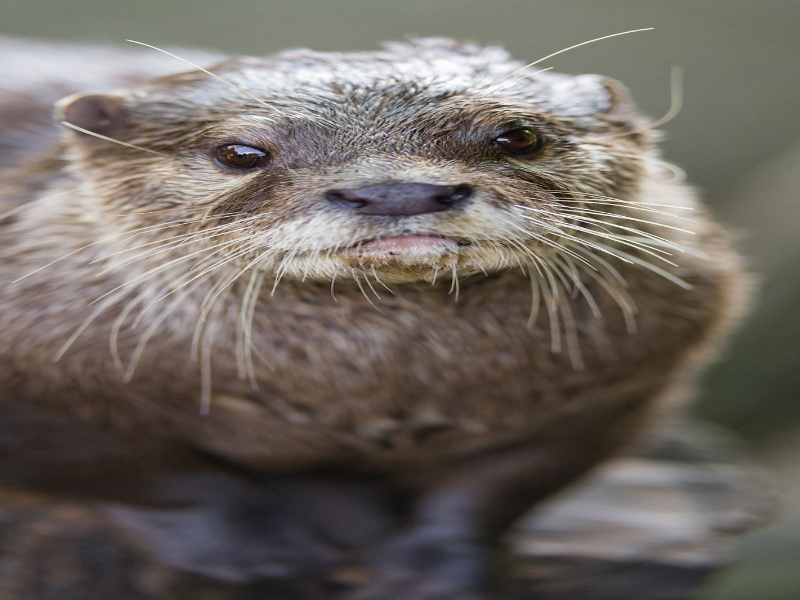minkish: (60, 37, 754, 553)
